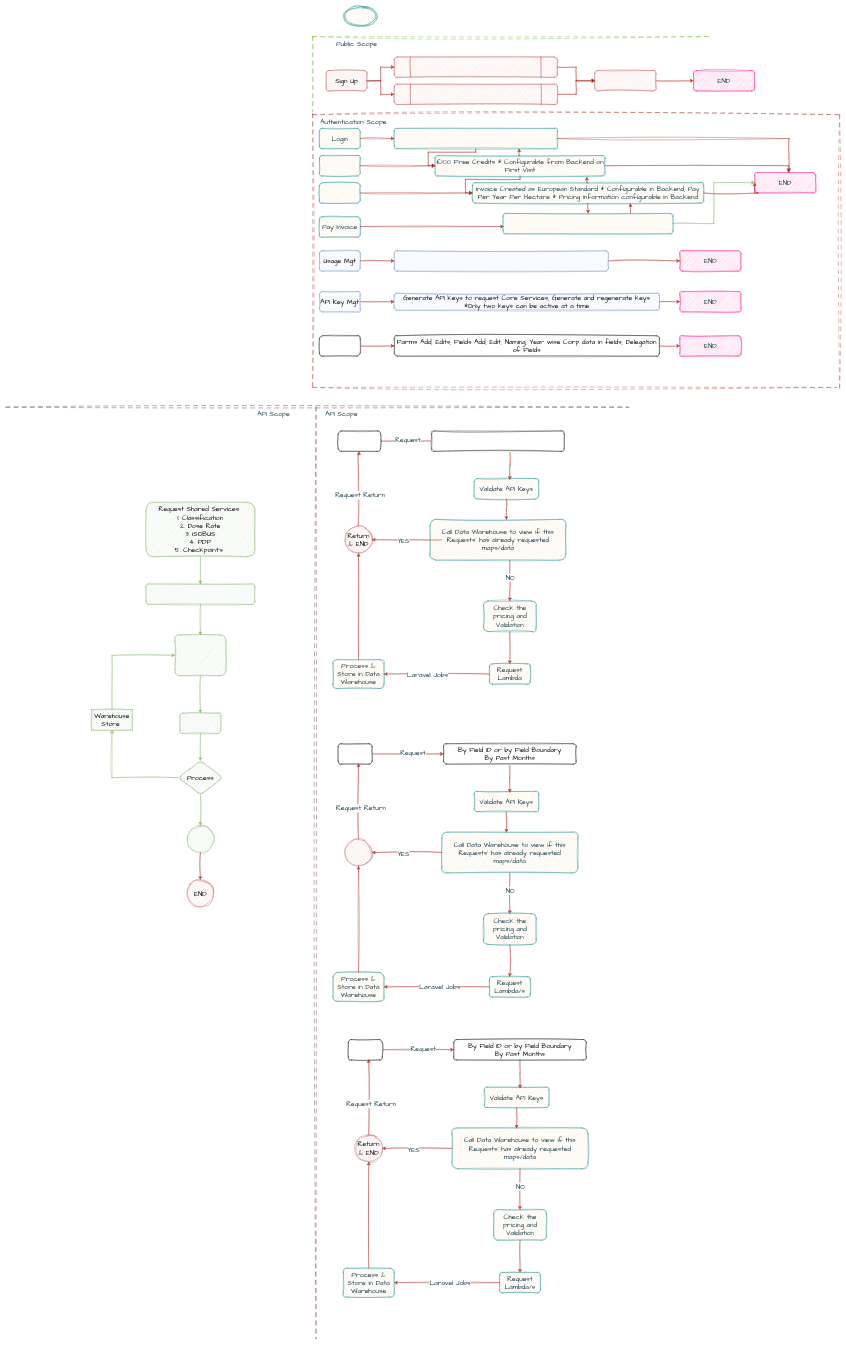
This 846x1345 diagram has some shape labels left out. The shapes that lost their labels are listed below. From the top down, each one's centre as x and y in pixels, then its label:
(x=360, y=16): Start
(x=475, y=67): Signup Using Valid email and password
(x=625, y=80): Authentication API generated
(x=475, y=94): Signup using Social (Facebook/Google/Apple/MST)
(x=475, y=138): With AUTH Token/Email/OAuth token
(x=339, y=165): Free Credits
(x=339, y=192): Create Invoice
(x=588, y=223): Invoice Payment via Credit Note or PGW
(x=501, y=260): Balance Check, Filtered usage data per key, Logs
(x=339, y=345): Farm Mgt
(x=359, y=441): Request VI's
(x=497, y=441): By Field ID or by Field Boundary
(x=200, y=594): Mpa UUIDS
(x=200, y=655): Data WareHouse Check
(x=200, y=723): Call Lambda
(x=355, y=753): Request SPM's
(x=200, y=839): Return
(x=358, y=852): Return and END
(x=365, y=1049): Request N Rx
